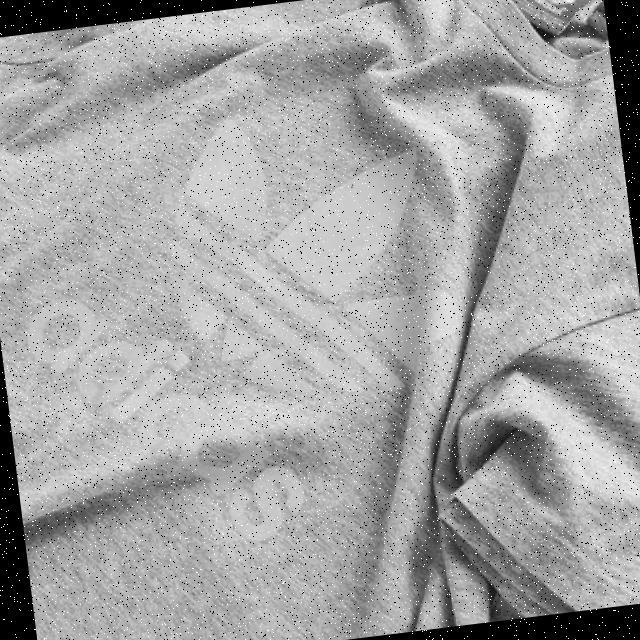Adidas: (134, 76, 509, 439), (528, 0, 590, 28)
